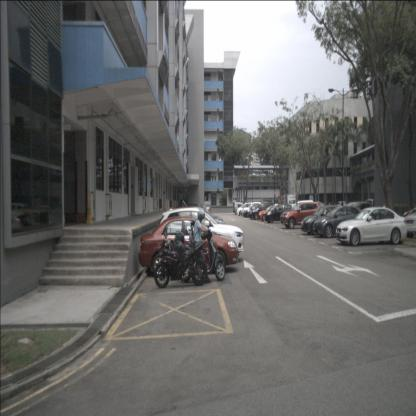human-pedestrian-adult: (184, 197, 188, 211), (180, 197, 184, 210)
movable_object-trafficcone: (86, 191, 93, 225)
vehicle-car: (138, 216, 239, 278), (156, 206, 245, 262), (335, 206, 408, 247), (312, 205, 368, 238), (280, 200, 326, 229), (300, 205, 346, 234), (340, 202, 377, 223), (266, 204, 294, 223), (401, 207, 416, 239), (258, 204, 284, 222), (250, 202, 275, 220), (243, 202, 264, 218), (236, 202, 259, 216), (244, 204, 264, 218), (233, 201, 245, 214)
vehicle-motorcycle: (176, 209, 226, 283), (154, 238, 208, 288), (151, 232, 200, 278)
